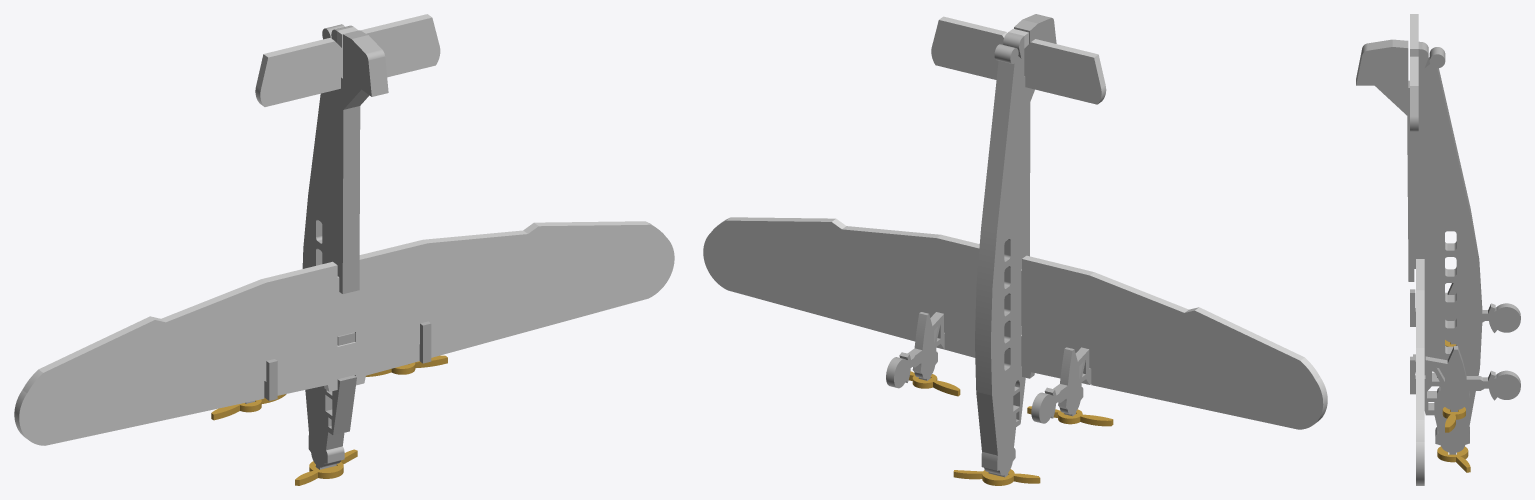
File: Ford Trimotor.glb
The picture shows the model from 3 angles, left to right: view 1: azimuth 30°, elevation 25°; view 2: azimuth 150°, elevation 25°; view 3: azimuth 270°, elevation 25°; orthographic projection. The views are drawn at different scales.
Parts seen in each view (by area): view 1: Wing, Fuselage, Elevator, MainProp; view 2: Wing, Fuselage, Elevator, Engine2, Engine1, MainProp; view 3: Fuselage, Engine1, Wing, Engine2, Elevator, MainProp, SideProp1.
Part boxes in pixels (x1,y1,x2,y2): Wing: [14, 221, 674, 445]; Fuselage: [302, 24, 388, 469]; Elevator: [255, 14, 440, 106]; MainProp: [295, 449, 357, 485]; Wing: [703, 217, 1327, 429]; Fuselage: [975, 14, 1056, 477]; Elevator: [931, 16, 1106, 104]; Engine2: [1031, 347, 1091, 423]; Engine1: [886, 312, 944, 388]; MainProp: [953, 469, 1040, 485]; Fuselage: [1356, 39, 1482, 454]; Engine1: [1410, 346, 1520, 411]; Wing: [1416, 259, 1424, 485]; Engine2: [1410, 283, 1520, 344]; Elevator: [1410, 14, 1418, 131]; MainProp: [1437, 446, 1470, 472]; SideProp1: [1442, 407, 1465, 432].
Bounding box in the file's own units: 0.1169 × 0.0782 × 0.0283.
